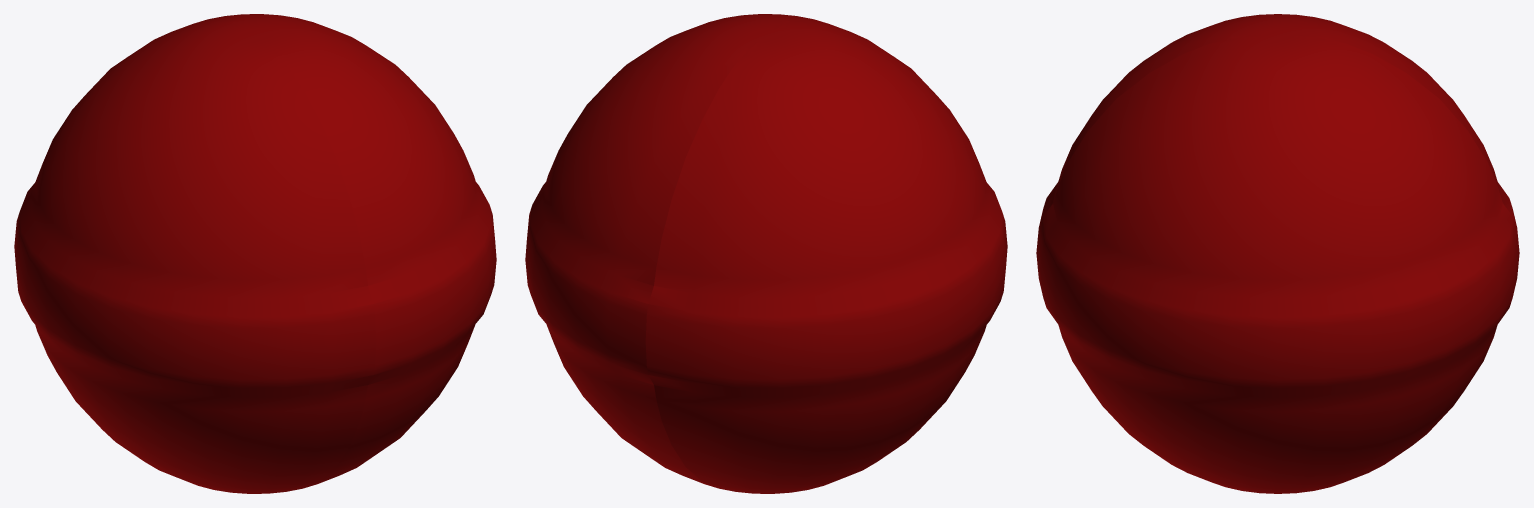
File: PaletaA.glb
3 renders of one model, left to right at view 1: azimuth 30°, elevation 25°; view 2: azimuth 150°, elevation 25°; view 3: azimuth 270°, elevation 25°, orthographic.
Visible parts, largest first — view 1: Paleta_R, Paleta_L; view 2: Paleta_R, Paleta_L; view 3: Paleta_L, Paleta_R.
Part boxes in pixels (x1,y1,x2,y2): Paleta_R: (14, 18, 376, 493); Paleta_L: (209, 14, 496, 488); Paleta_R: (645, 18, 1007, 493); Paleta_L: (525, 14, 812, 488); Paleta_L: (1036, 34, 1519, 493); Paleta_R: (1039, 14, 1516, 224).
Bounding box in the file's own units: 1 × 1 × 1.
1 material, 1 textured.
